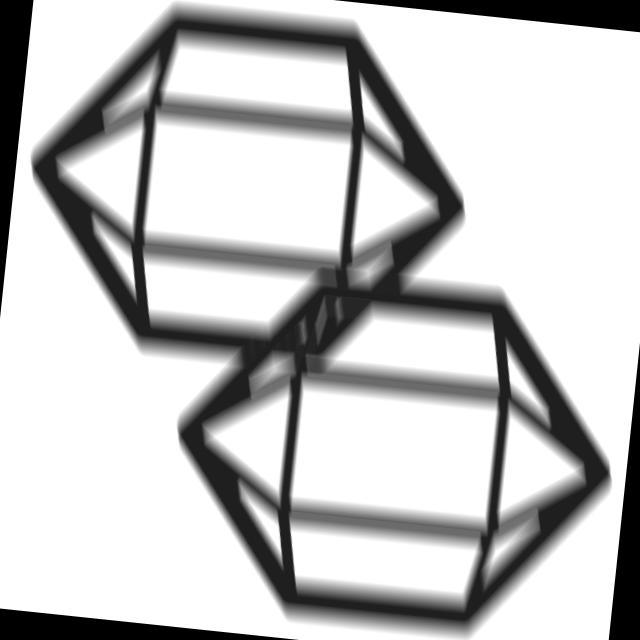crystal: (133, 225, 640, 640), (1, 1, 499, 421)
